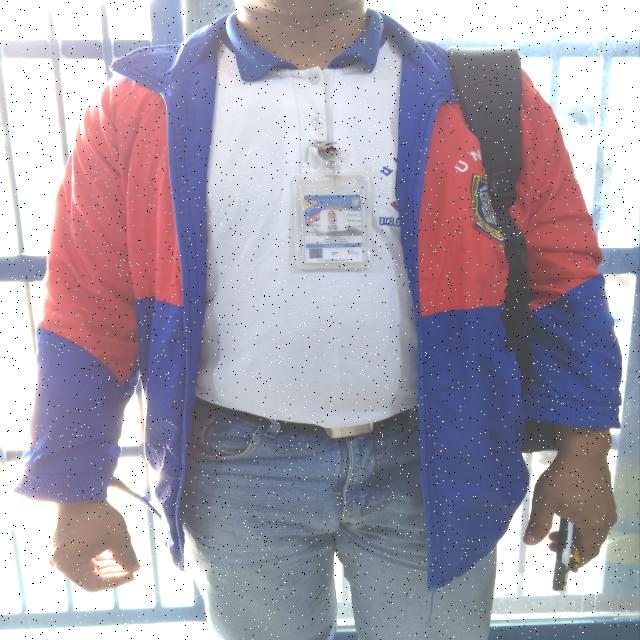carnet: (304, 192, 361, 262)
chaqueta_unefa: (13, 8, 624, 592)
